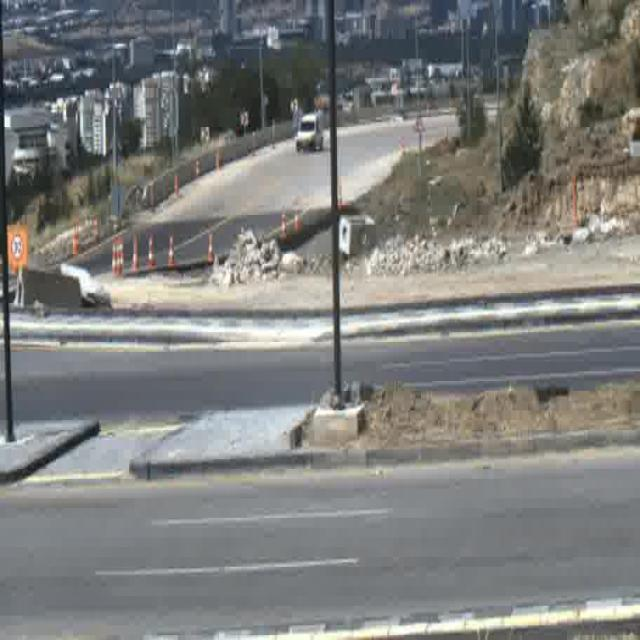Car: (294, 110, 322, 156)
